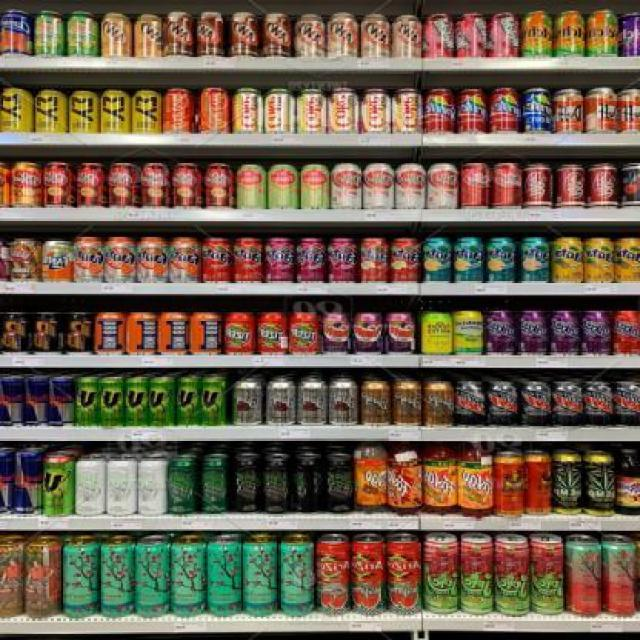Drinks: (452, 379, 486, 430), (518, 88, 554, 134), (486, 86, 520, 134), (519, 380, 553, 428), (486, 380, 520, 428), (586, 163, 622, 207), (199, 87, 233, 133), (162, 88, 196, 134), (423, 89, 457, 133), (359, 236, 390, 284), (583, 381, 614, 429), (553, 381, 584, 429), (104, 236, 136, 282), (391, 88, 423, 134), (328, 88, 360, 134), (264, 88, 296, 134), (231, 88, 263, 134), (491, 163, 523, 209), (459, 163, 491, 209), (426, 163, 458, 209), (395, 163, 427, 209), (362, 163, 394, 209), (331, 163, 363, 209), (298, 164, 330, 210), (267, 164, 299, 210), (235, 164, 267, 210), (203, 163, 235, 209), (171, 163, 203, 209), (138, 163, 170, 209), (106, 163, 138, 209), (74, 163, 106, 209), (11, 162, 43, 208), (551, 237, 583, 283), (518, 237, 550, 283), (485, 237, 517, 283), (453, 237, 485, 283), (419, 238, 451, 284), (201, 238, 233, 284), (169, 237, 201, 283), (136, 237, 168, 283), (456, 89, 487, 135), (360, 88, 391, 134), (43, 162, 74, 208), (584, 237, 615, 283), (389, 237, 420, 283), (328, 238, 359, 284), (296, 238, 327, 284), (266, 237, 297, 283), (234, 237, 265, 283), (72, 236, 103, 282), (295, 89, 327, 133), (554, 164, 586, 208), (522, 164, 554, 208), (612, 381, 640, 429), (41, 239, 72, 282), (614, 237, 640, 281)
